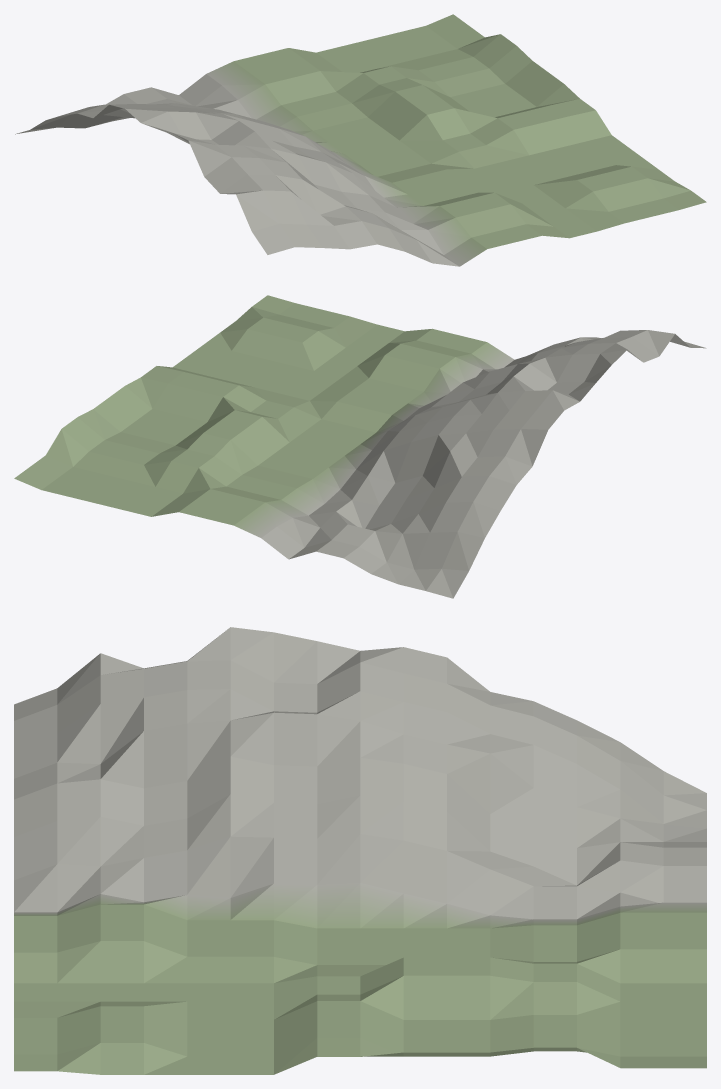
3 views of the same model, one above another, from view 1: azimuth 30°, elevation 25°; view 2: azimuth 150°, elevation 25°; view 3: azimuth 270°, elevation 25° (orthographic). The views are drawn at different scales.
Bounding box in the file's own units: 32 × 8.53 × 32.
